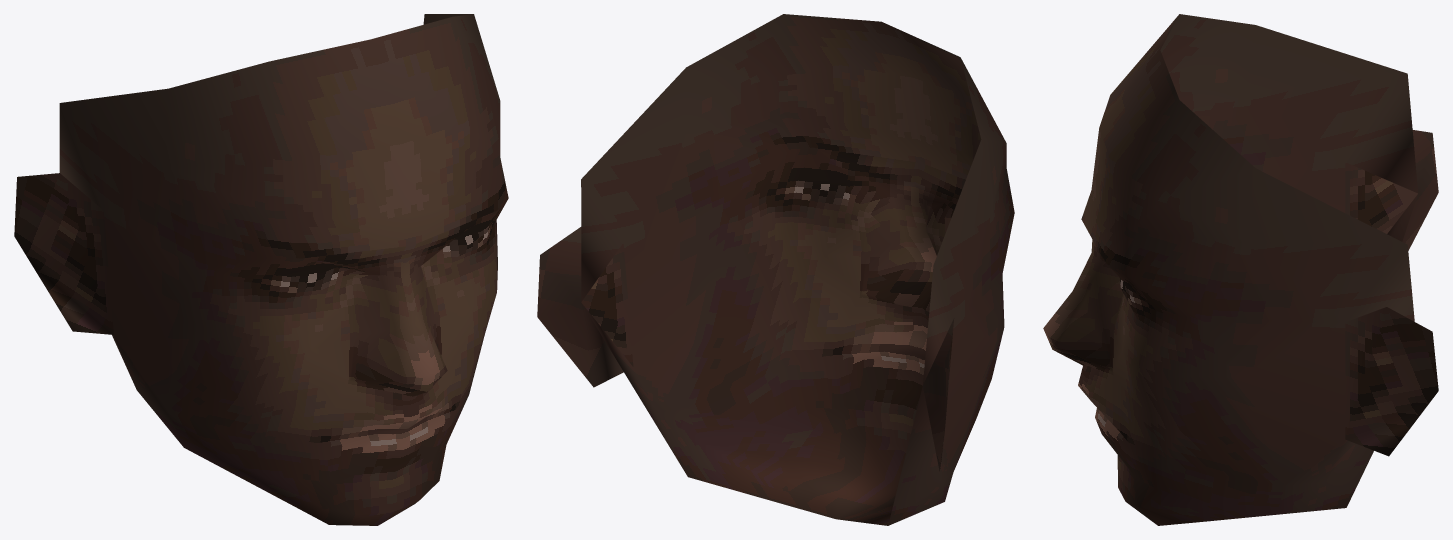
The picture shows the model from 3 angles, left to right: view 1: azimuth 30°, elevation 25°; view 2: azimuth 150°, elevation 25°; view 3: azimuth 270°, elevation 25°; orthographic projection. The views are drawn at different scales.
Bounding box in the file's own units: 17.18 × 18.64 × 14.45.
Materials: 1 (1 with a texture image).
